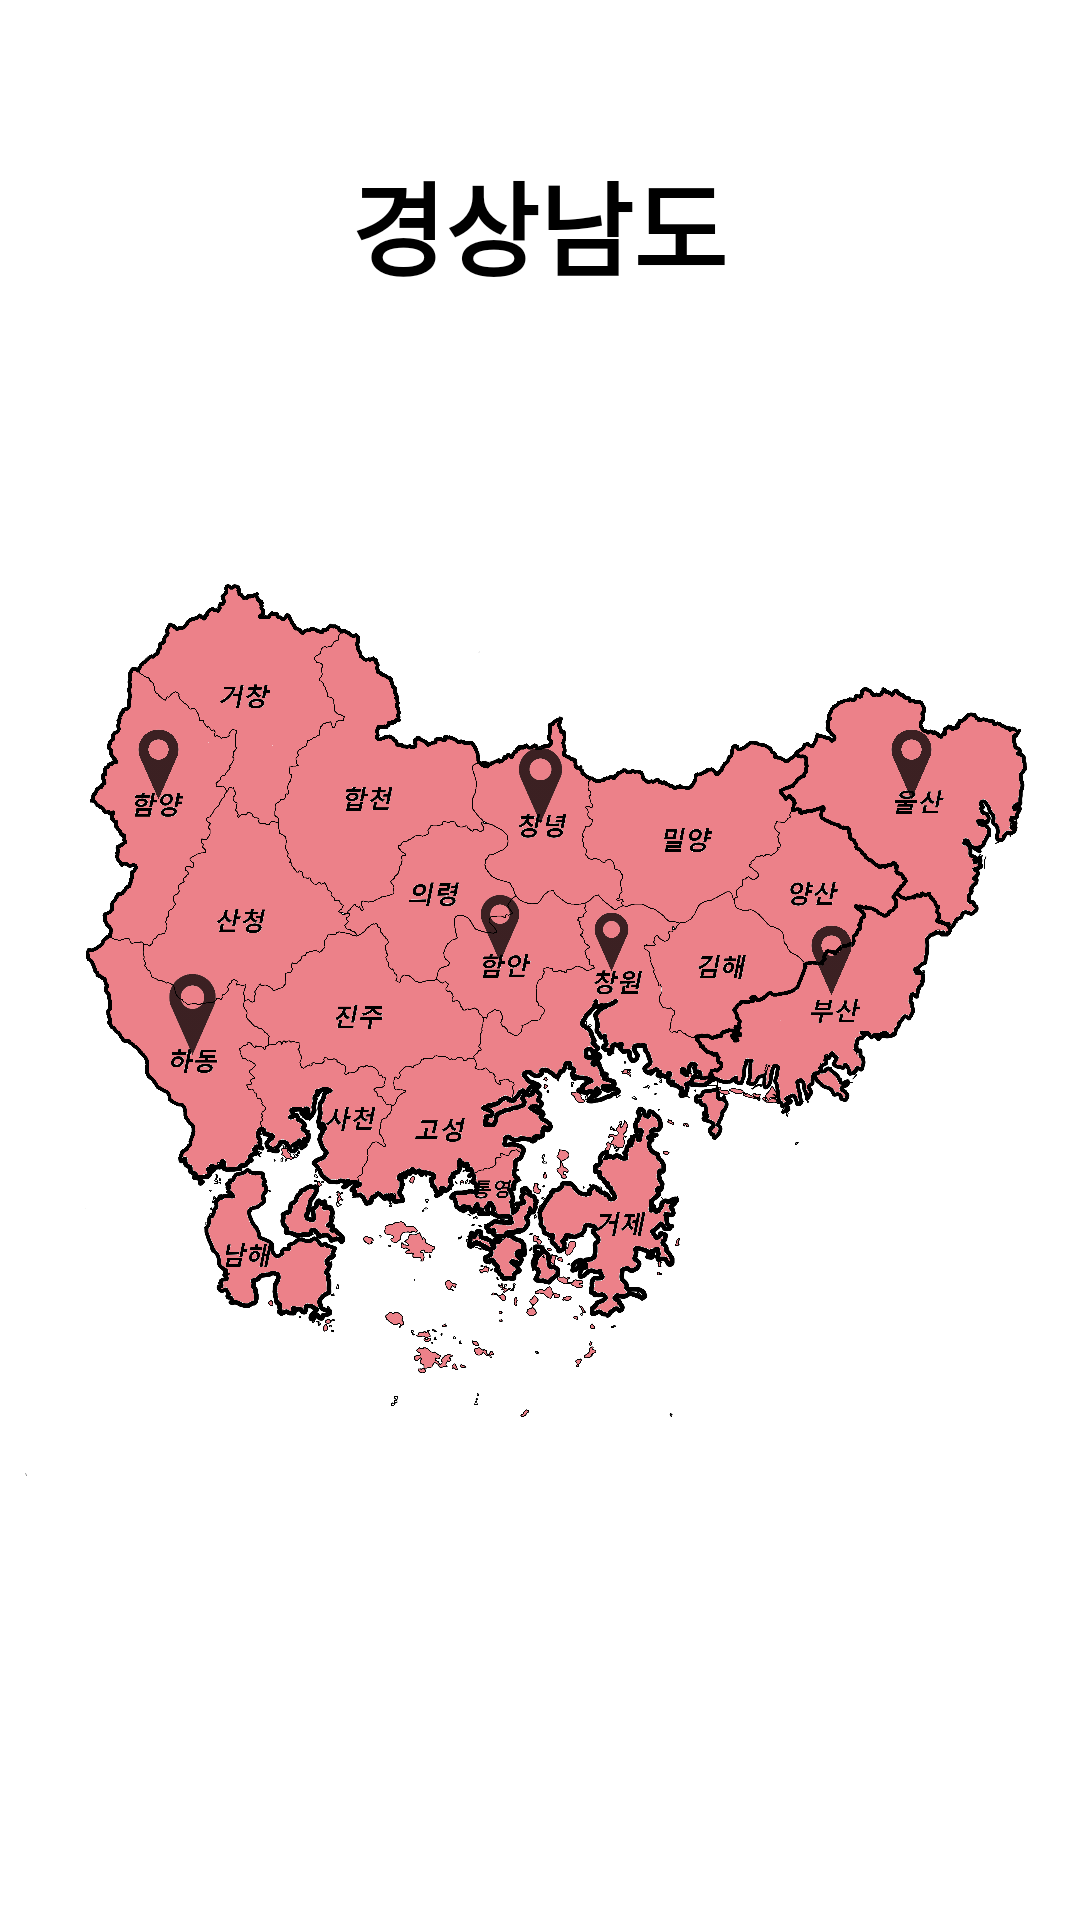

Named icons in this screenshot (1080w x 1920h) and their centers, (x,y):
marker: (911,754), (540,785), (159,773), (500,916), (831,960), (618,953), (192,1014)
